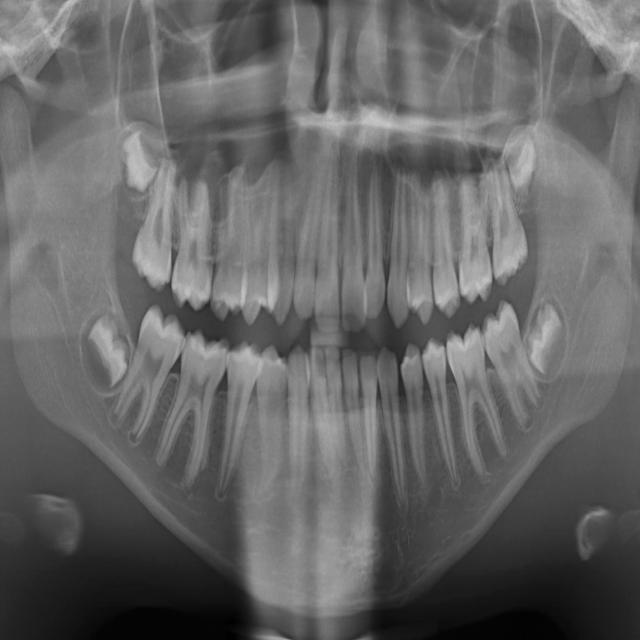3M ESPE Implant: (108, 122, 168, 195)
AGS Medikal Implant: (530, 365, 531, 366)
AMerOss Implant: (440, 320, 513, 482)
Amalgam filling: (129, 156, 177, 294)
Anthogyr Implant: (420, 335, 463, 490)
Bicon Implant: (397, 341, 438, 490)
BioHorizons Implant: (376, 344, 407, 508)
BioLife Implant: (359, 352, 380, 480)
Biomet 3i Implant: (340, 345, 366, 474)
Blue Sky Bio Implant: (323, 343, 354, 472)
Camlog Implant: (332, 430, 333, 432)
Caries: (358, 159, 388, 320)
Composite filling: (287, 344, 309, 502)
Cowellmedi Implant: (256, 343, 285, 503)
Crown: (208, 337, 261, 503)
DENTSPLY Implant: (168, 174, 220, 313)
Dentatus Implant: (146, 326, 234, 497)
Dentis Implant: (103, 301, 192, 450)
Dentium Implant: (67, 310, 144, 396)
Euroteknika Implant: (209, 167, 242, 320)
Filling: (239, 162, 276, 326)
Frontier Implant: (273, 162, 297, 324)
Hiossen Implant: (383, 151, 412, 330)
Implant: (312, 149, 340, 334)
Implant Direct: (290, 150, 327, 322)
Keystone Dental Implant: (340, 148, 371, 334)
MIS Implant: (407, 172, 434, 327)
Mandible: (417, 170, 463, 322)
Maxilla: (452, 172, 494, 306)
Megagen Implant: (487, 151, 530, 287)
Neodent Implant: (503, 124, 539, 200)
Neoss Implant: (523, 299, 569, 381)
